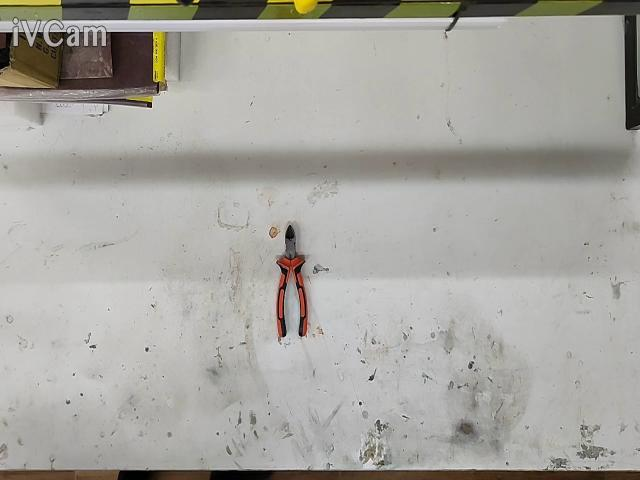Cutting pliers: (276, 225, 309, 338)
